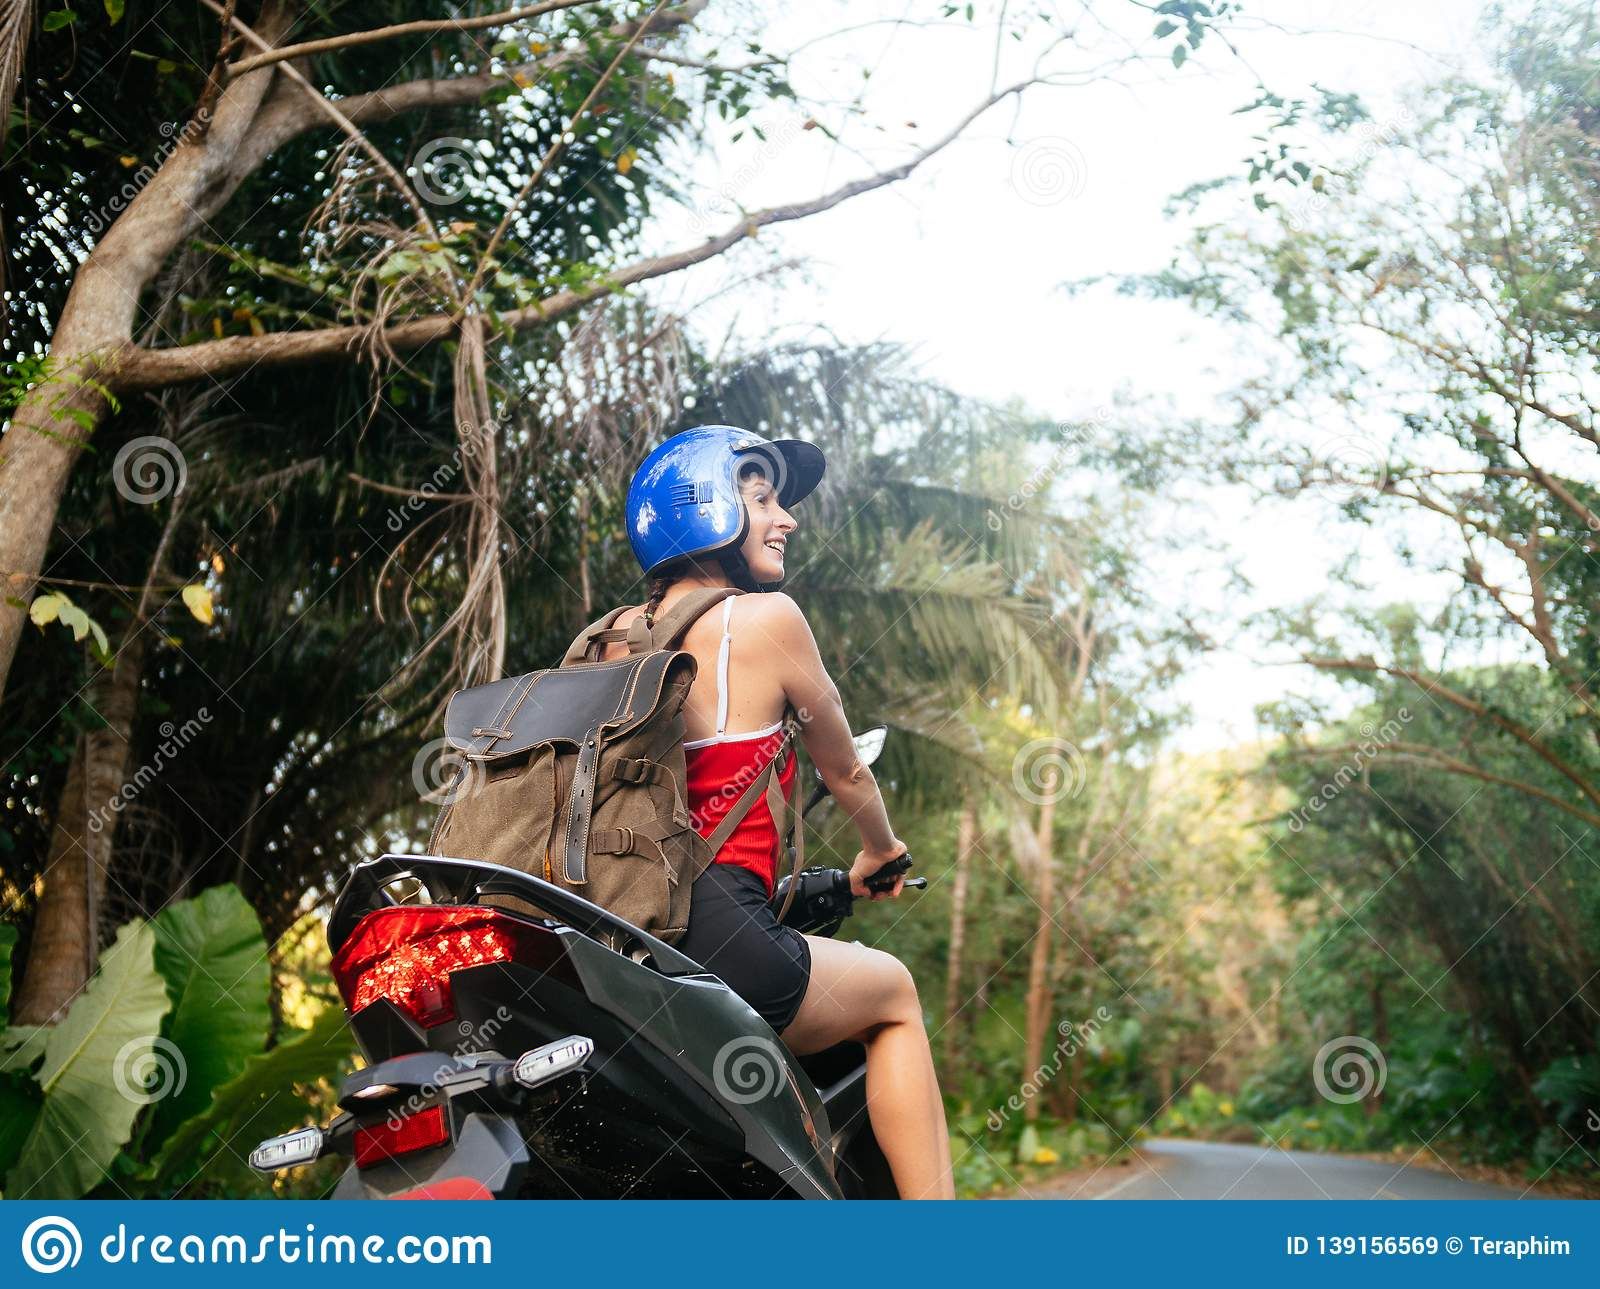helmet: (634, 433, 828, 587)
